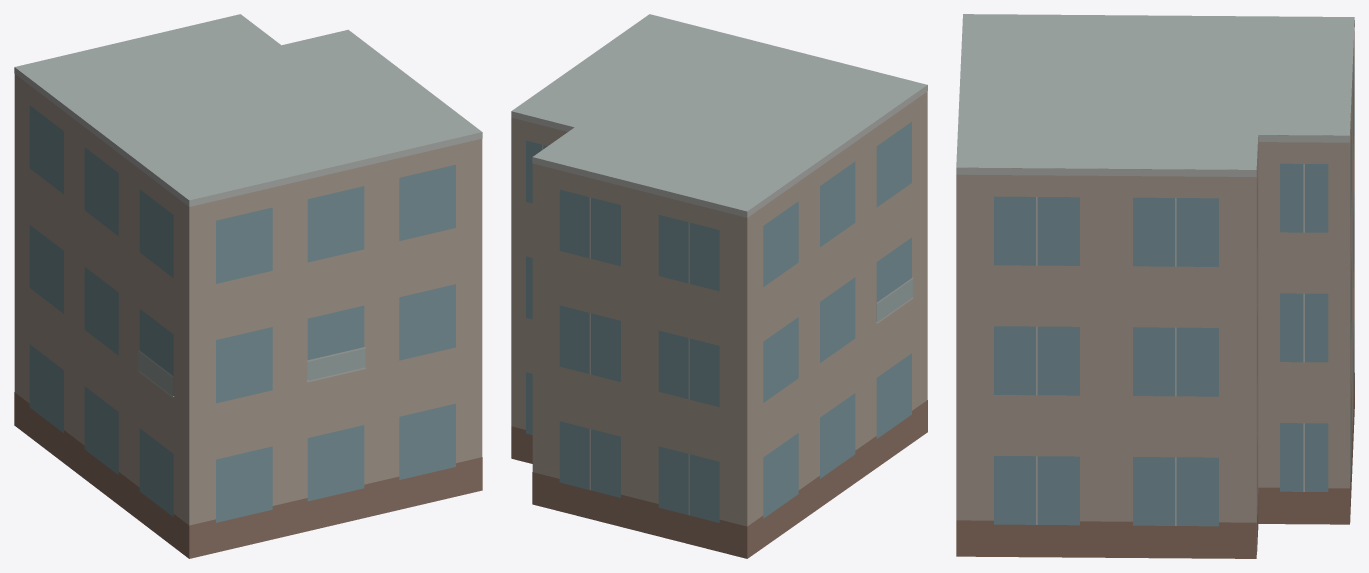
The model's file is survey-upis-33007566.glb.
The picture shows the model from 3 angles, left to right: view 1: azimuth 30°, elevation 25°; view 2: azimuth 150°, elevation 25°; view 3: azimuth 270°, elevation 25°; orthographic projection. The views are drawn at different scales.
Parts seen in each view (by area): view 1: survey-upis-33007566.tmp; view 2: survey-upis-33007566.tmp; view 3: survey-upis-33007566.tmp.
Part boxes in pixels (left/top/right/bottom): survey-upis-33007566.tmp: left=14, top=14, right=482, bottom=558; survey-upis-33007566.tmp: left=511, top=14, right=927, bottom=558; survey-upis-33007566.tmp: left=956, top=14, right=1354, bottom=558.
Bounding box in the file's own units: 11.49 × 13.34 × 12.4.
